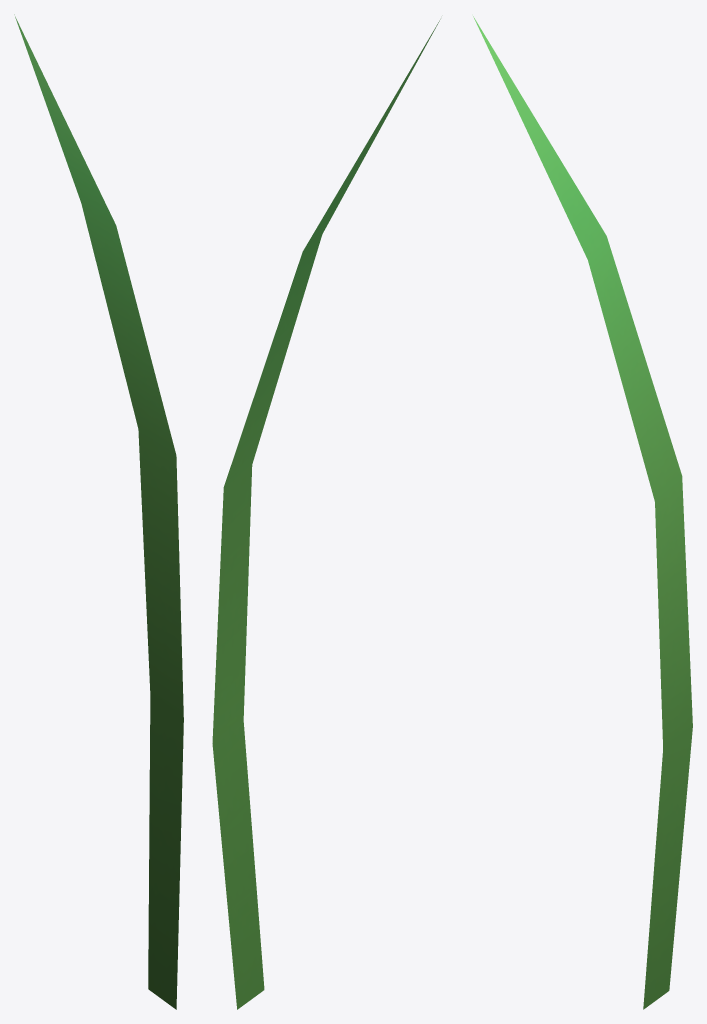
The model's file is SM_Sw_Grass_03.fbx.
The picture shows the model from 3 angles, left to right: view 1: azimuth 30°, elevation 25°; view 2: azimuth 150°, elevation 25°; view 3: azimuth 330°, elevation 25°; orthographic projection. The views are drawn at different scales.
Parts seen in each view (by area): view 1: SM_Sw_Grass_03; view 2: SM_Sw_Grass_03; view 3: SM_Sw_Grass_03.
Part boxes in pixels (left/top/right/bottom): SM_Sw_Grass_03: left=14, top=14, right=183, bottom=1009; SM_Sw_Grass_03: left=212, top=19, right=440, bottom=1009; SM_Sw_Grass_03: left=473, top=16, right=692, bottom=1009.
Bounding box in the file's own units: 7.46 × 39.56 × 3.55.
